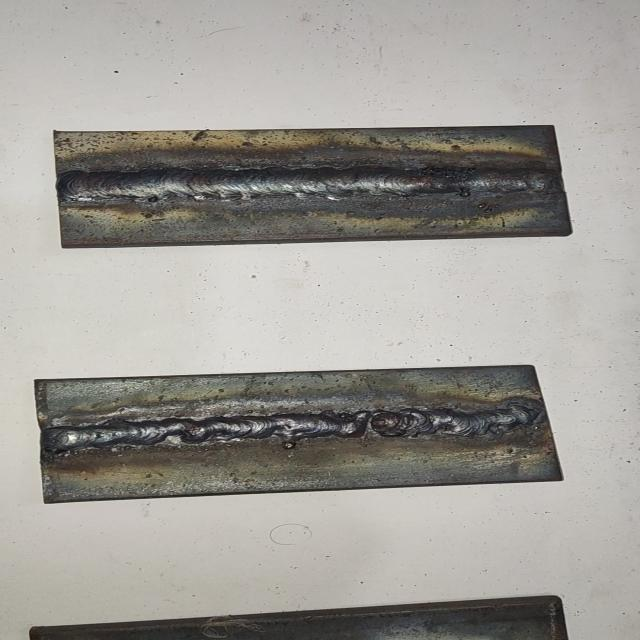Defect: (336, 397, 406, 451), (416, 158, 484, 208)
Welding Line: (41, 405, 542, 457), (58, 167, 565, 201)
Workpiece: (27, 360, 571, 508), (49, 116, 576, 254)
